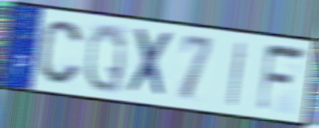7: (179, 33, 213, 104)
C: (37, 18, 85, 87)
F: (256, 42, 308, 116)
I: (226, 39, 249, 109)
Q: (83, 21, 128, 96)
X: (125, 26, 176, 101)
